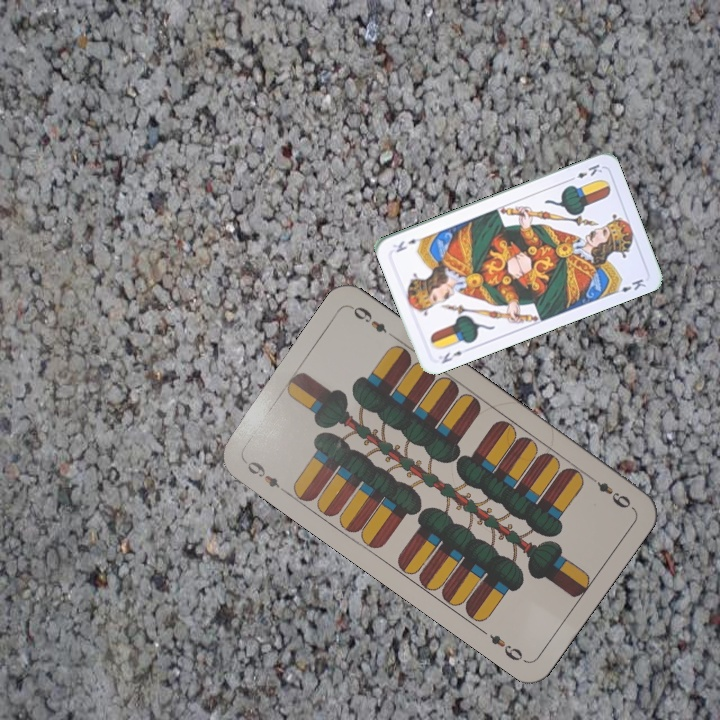E9: (585, 472, 636, 512), (243, 457, 290, 495)
EK: (565, 160, 605, 184), (434, 347, 465, 366)
